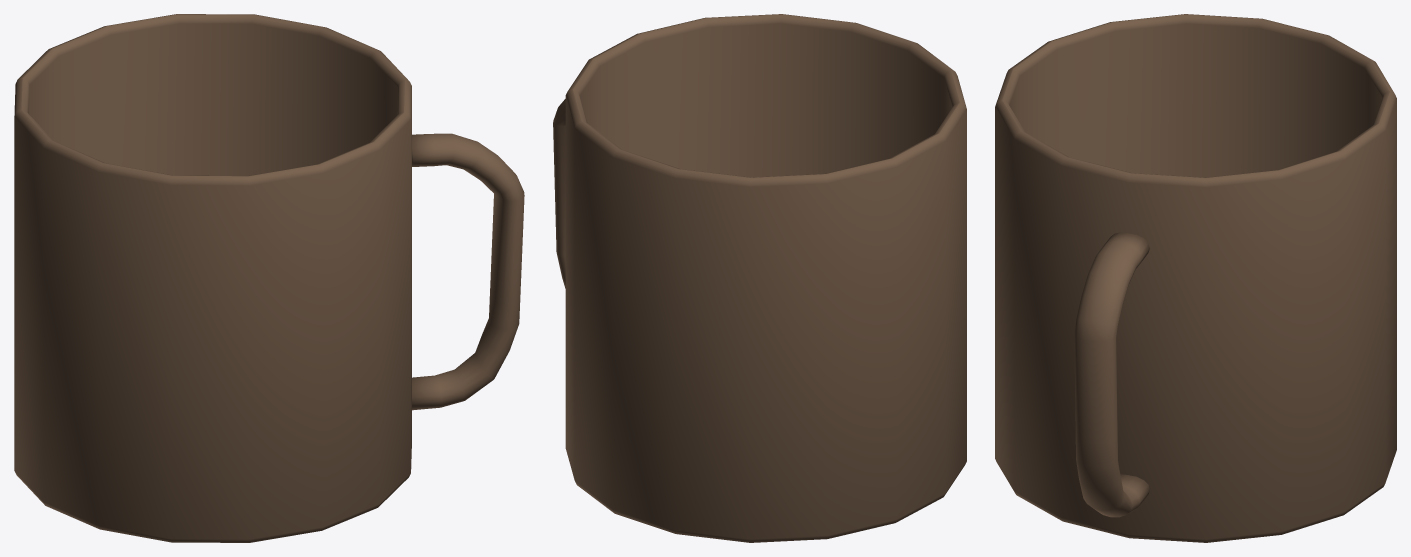
Rendered from CUP.fbx.
3 views of the same model, side by side, from view 1: azimuth 30°, elevation 25°; view 2: azimuth 150°, elevation 25°; view 3: azimuth 270°, elevation 25° (orthographic).
Parts seen in each view (by area): view 1: CUP; view 2: CUP; view 3: CUP.
Boxes of the visible parts, <box> form: CUP: <box>14,14,524,542</box>; CUP: <box>553,14,966,542</box>; CUP: <box>995,14,1396,542</box>.
Bounding box in the file's own units: 9.48 × 7.65 × 7.64.
